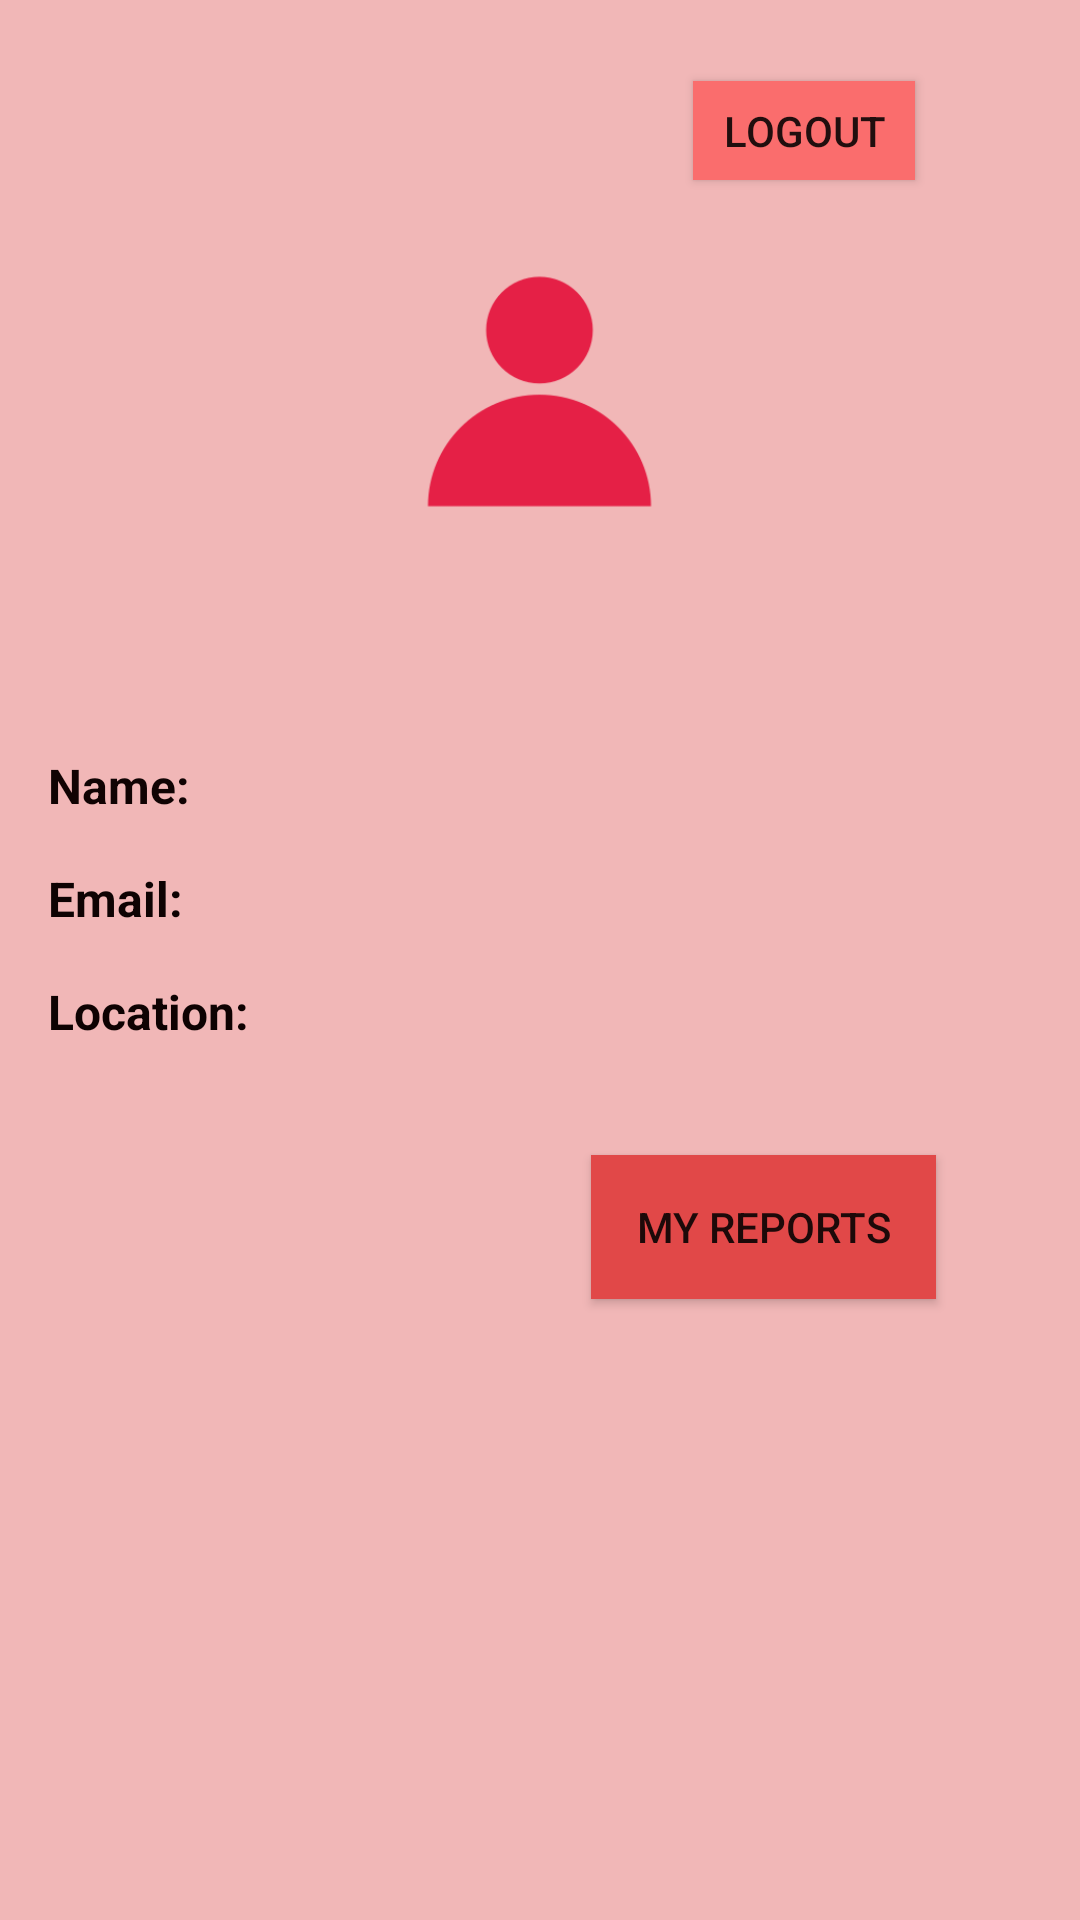

Icons on this 1080 x 1920 Android screen, each with the point to tap as (x=x, y=y):
profile: (x=539, y=391)
